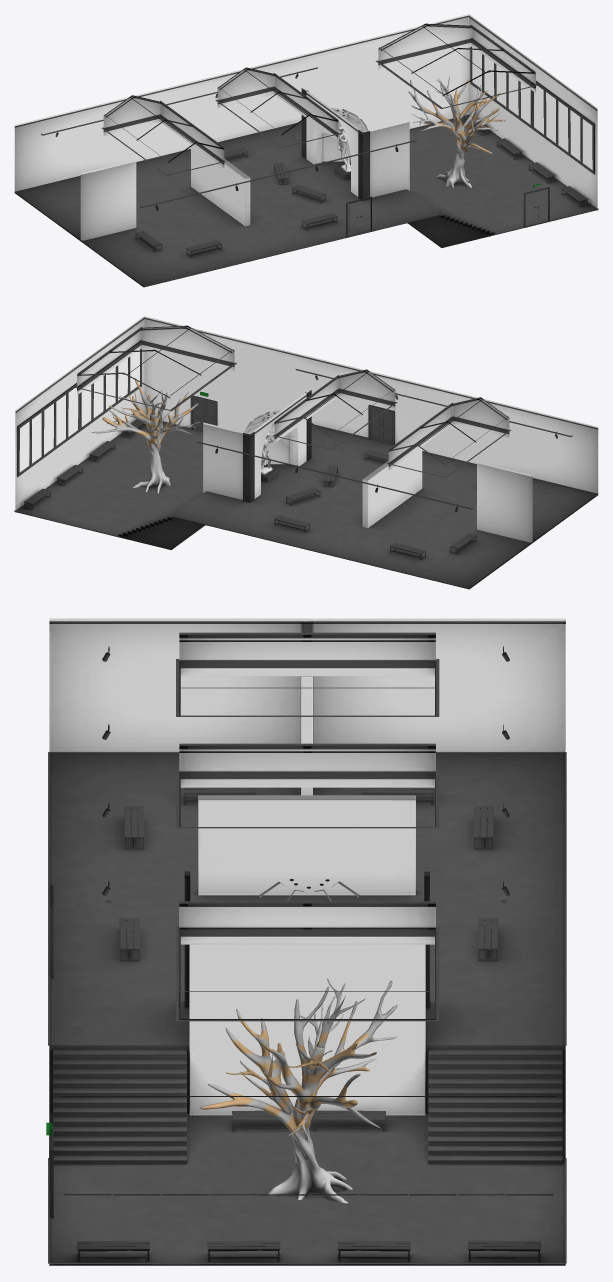
3 views of the same model, one above another, from view 1: azimuth 30°, elevation 25°; view 2: azimuth 150°, elevation 25°; view 3: azimuth 270°, elevation 25° (orthographic). The views are drawn at different scales.
Visible parts, largest first — view 1: walls, floor, ceiling, Window, skyLight, corner, tree2, chairs, Stairs, Doors; view 2: walls, floor, ceiling, Window, skyLight, corner, tree2, chairs, Doors, Stairs; view 3: floor, walls, Stairs, ceiling, skyLight, tree2, chairs, corner, Window, Doors.
Part boxes in pixels (x1,y1,x2,y2): walls: (14,14,597,241); floor: (15,117,598,287); ceiling: (103,23,535,168); Window: (470,46,594,174); skyLight: (101,24,537,175); corner: (14,15,598,286); tree2: (408,76,506,187); chairs: (135,115,588,257); Stairs: (409,190,494,235); Doors: (346,187,549,237); walls: (15,316,598,543); floor: (14,422,597,589); ceiling: (77,325,509,470); Window: (17,348,141,476); skyLight: (75,327,511,478); corner: (14,317,598,588); tree2: (92,378,200,493); chairs: (24,419,476,559); Doors: (190,395,394,445); Stairs: (118,492,203,536); floor: (49,755,565,1265); walls: (49,618,565,1115); Stairs: (53,1049,562,1164); ceiling: (179,638,435,944); skyLight: (176,632,439,1021); tree2: (200,978,397,1203); chairs: (77,787,540,1261); corner: (48,621,566,1263); Window: (61,1096,556,1195); Doors: (49,884,53,1218).
Size of the model in its own units: 37.95 by 11.34 by 18.75.
5 materials, 5 textured.
